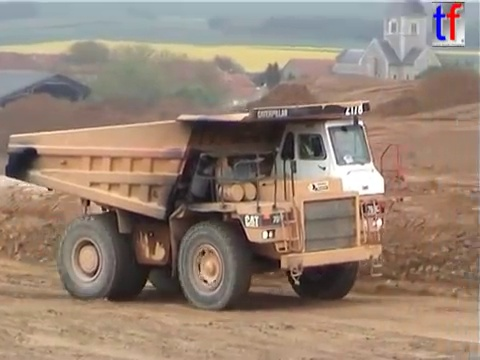truck: (1, 96, 406, 313)
